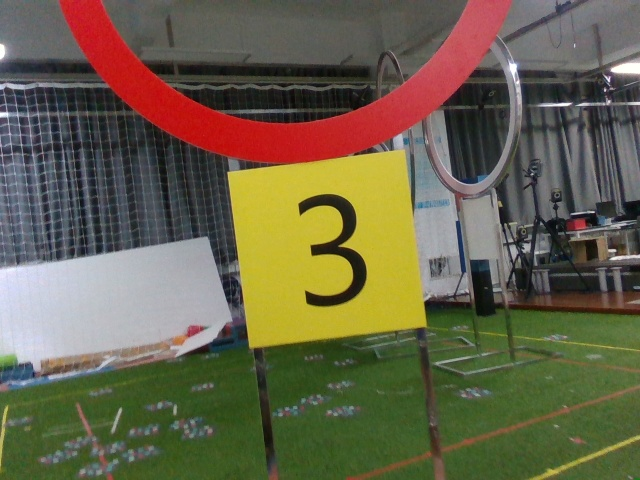target: (245, 174, 416, 331)
